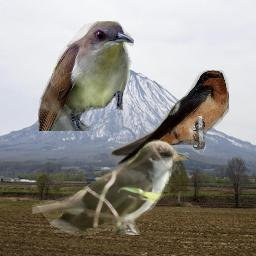Cuckoo: (32, 139, 189, 235), (38, 21, 134, 131)
Swallow: (96, 70, 229, 178)
